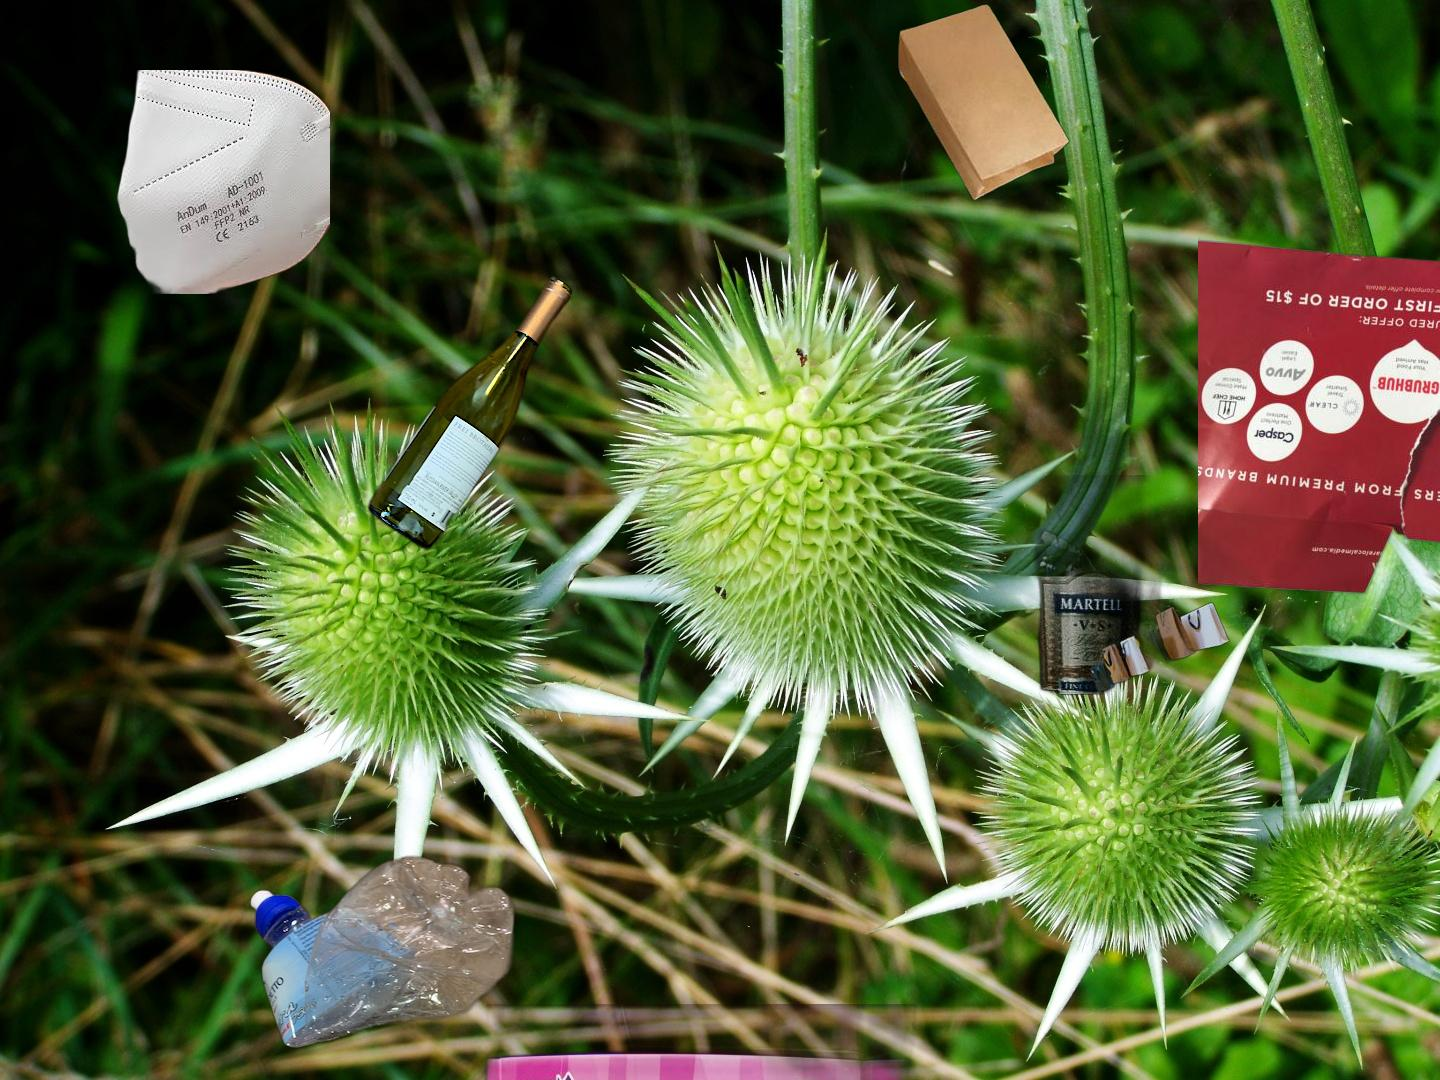glass: (363, 271, 576, 555)
paper: (1198, 237, 1440, 621)
paper-bag: (992, 475, 1233, 738), (895, 2, 1072, 203)
plastic-bottles: (246, 852, 520, 1080)
trash: (111, 70, 330, 294)
trashbox-cardboard: (415, 1004, 927, 1080)
